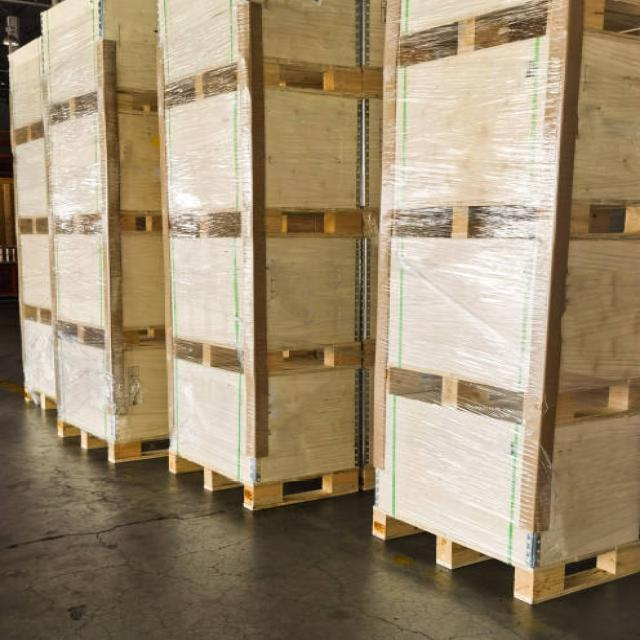Wooden-Pallets: (356, 494, 640, 617), (153, 439, 365, 523), (41, 409, 162, 477)
